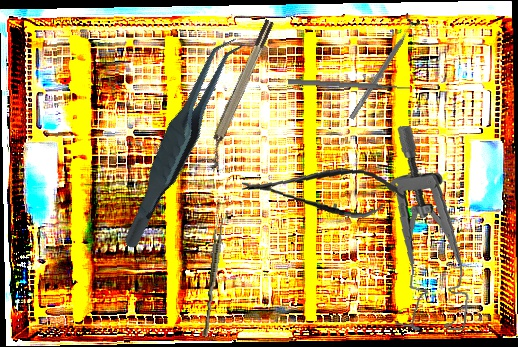Fixation Ring: (196, 17, 283, 171), (343, 12, 422, 124)
Micro Scissor: (240, 158, 406, 223)
Pusher: (287, 77, 411, 93)
Speculum: (376, 124, 485, 336)
Tissue Forceps: (82, 31, 279, 251), (201, 216, 225, 338)
